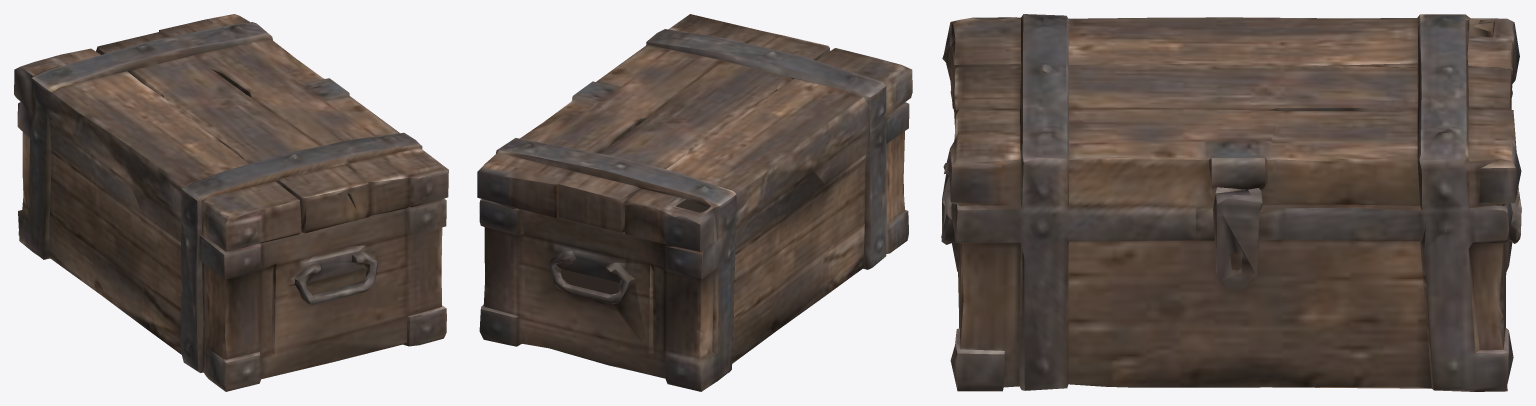
The picture shows the model from 3 angles, left to right: view 1: azimuth 30°, elevation 25°; view 2: azimuth 150°, elevation 25°; view 3: azimuth 270°, elevation 25°; orthographic projection. The views are drawn at different scales.
Visible parts, largest first — view 1: geometry_0; view 2: geometry_0; view 3: geometry_0.
Boxes of the visible parts, left/top/right/bottom form: geometry_0: left=14, top=14, right=448, bottom=391; geometry_0: left=477, top=14, right=912, bottom=391; geometry_0: left=941, top=14, right=1521, bottom=391.
Size of the model in its own units: 0.5995 by 0.4592 by 0.9568.
1 material, 1 textured.
